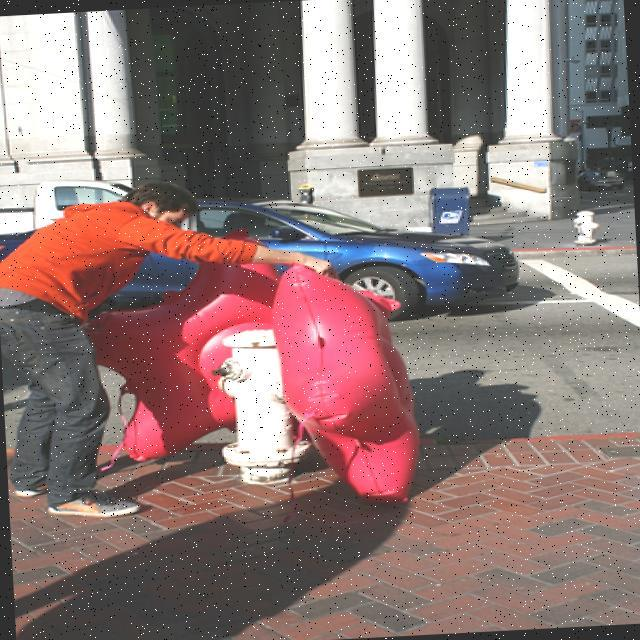fire_hydrant: (208, 328, 305, 488), (571, 209, 600, 244)
